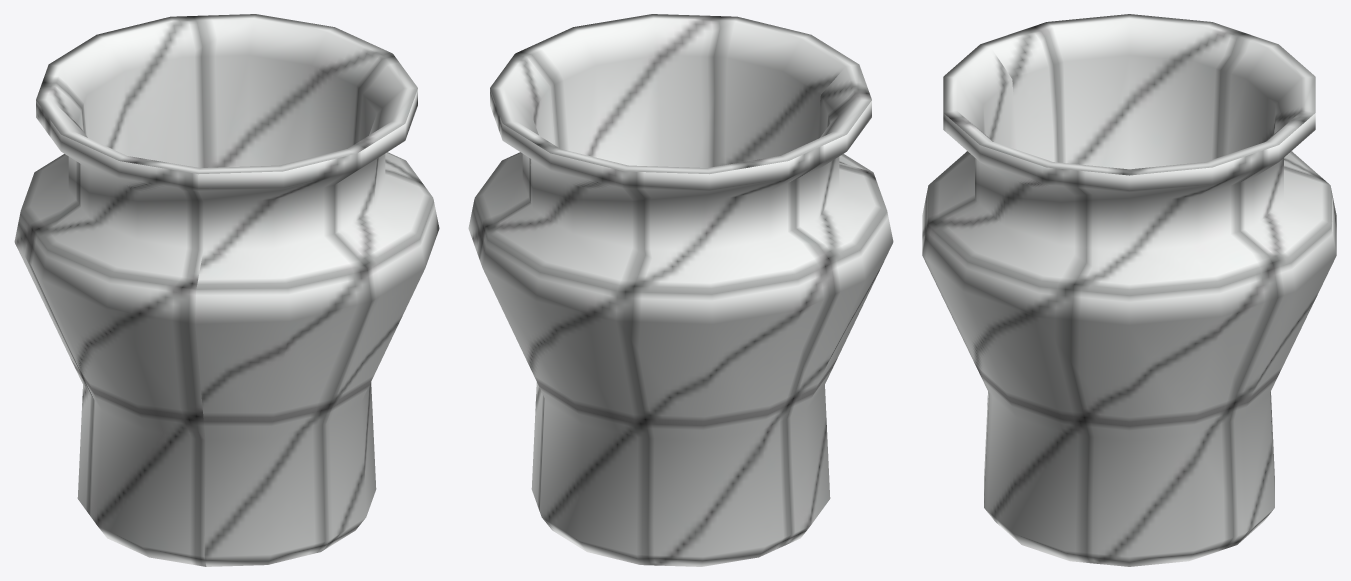
The model's file is vase2.fbx.
The picture shows the model from 3 angles, left to right: view 1: azimuth 30°, elevation 25°; view 2: azimuth 150°, elevation 25°; view 3: azimuth 270°, elevation 25°; orthographic projection.
Parts seen in each view (by area): view 1: PotCeramic; view 2: PotCeramic; view 3: PotCeramic.
Part boxes in pixels (bbox=[...]): PotCeramic: bbox=[14, 14, 439, 566]; PotCeramic: bbox=[468, 14, 893, 566]; PotCeramic: bbox=[922, 14, 1336, 566].
Size of the model in its own units: 26.6 by 28.58 by 25.93.
